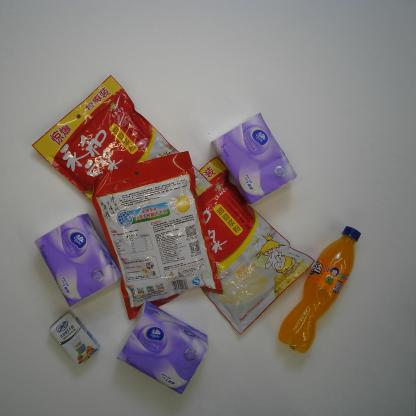Drink: (278, 225, 361, 354)
Instant Drink: (30, 74, 213, 240), (163, 155, 315, 337), (92, 150, 224, 321)
Milk: (48, 311, 101, 367)
Tissue: (117, 300, 209, 396), (209, 112, 298, 206), (34, 213, 122, 307)
